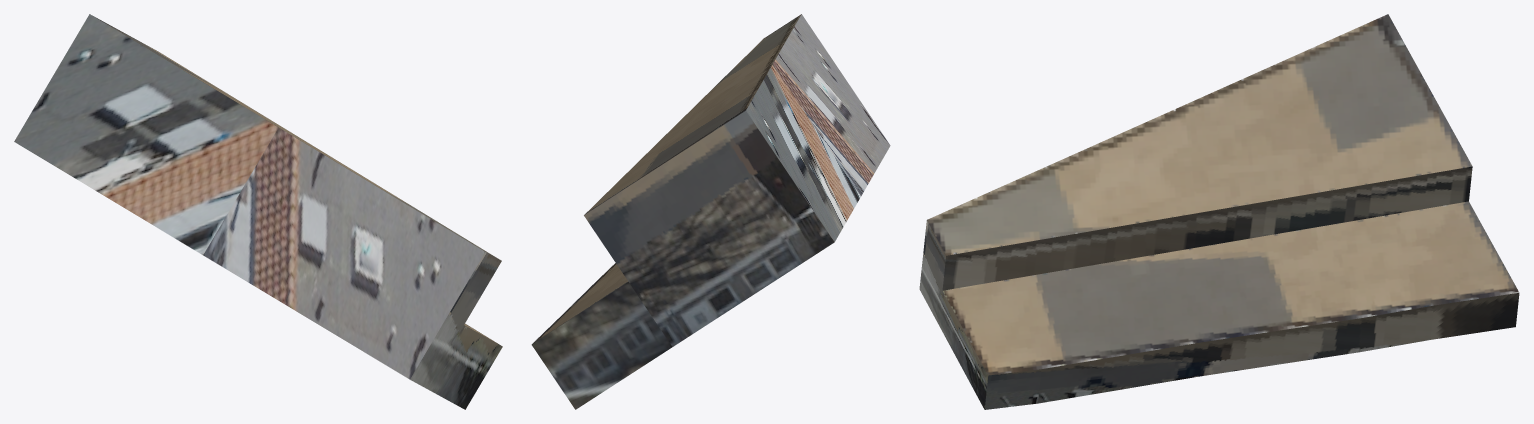
3 views of the same model, side by side, from view 1: azimuth 30°, elevation 25°; view 2: azimuth 150°, elevation 25°; view 3: azimuth 270°, elevation 25° (orthographic). The views are drawn at different scales.
Parts seen in each view (by area): view 1: BAG_0599100010057617 (×3); view 2: BAG_0599100010057617 (×3); view 3: BAG_0599100010057617 (×6).
Boxes of the visible parts, left/top/right/bottom form: BAG_0599100010057617 (×3): left=14, top=14, right=502, bottom=409; BAG_0599100010057617 (×3): left=531, top=14, right=890, bottom=409; BAG_0599100010057617 (×6): left=919, top=14, right=1519, bottom=409.
Bounding box in the file's own units: 11.88 × 11.29 × 20.09.
Materials: 6 (6 with a texture image).
